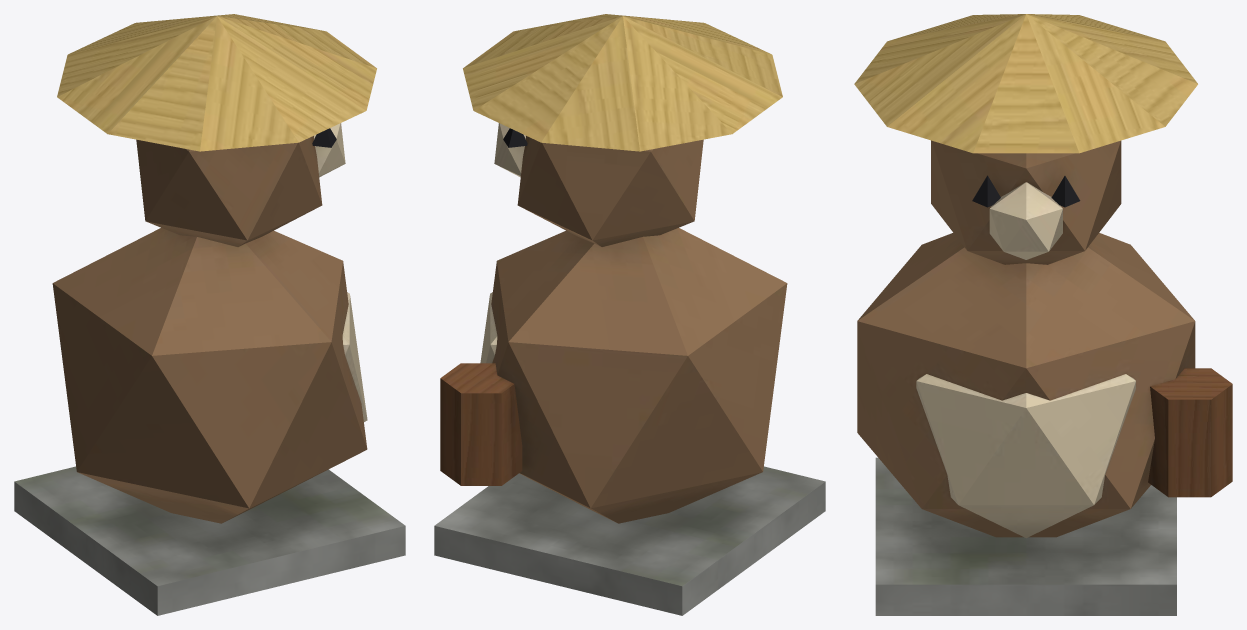
Rendered from tanuki_tex.glb.
3 renders of one model, left to right at view 1: azimuth 30°, elevation 25°; view 2: azimuth 150°, elevation 25°; view 3: azimuth 270°, elevation 25°, orthographic. The views are drawn at different scales.
Visible parts, largest first — view 1: tanuki; view 2: tanuki; view 3: tanuki.
Part boxes in pixels (x1,y1,x2,y2): tanuki: (14,14,405,615); tanuki: (434,14,825,615); tanuki: (854,14,1232,615).
Size of the model in its own units: 0.7761 by 1.39 by 0.88.
Materials: 6 (5 with a texture image).
